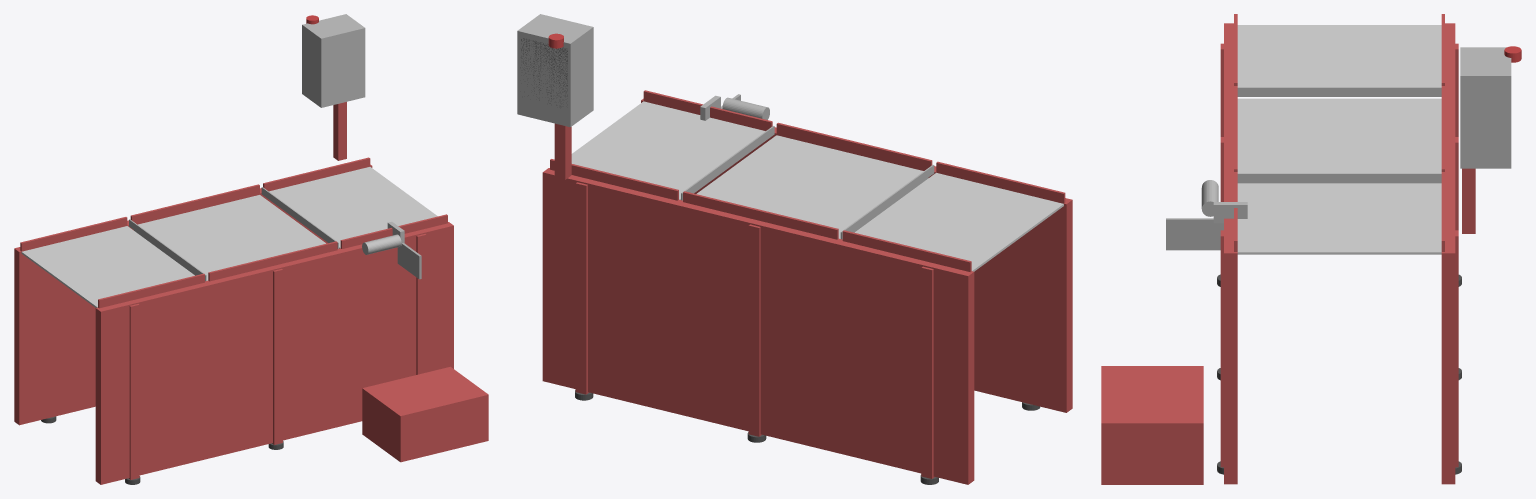
Rendered from weigher-automatic-check-600-red.glb.
3 renders of one model, left to right at view 1: azimuth 30°, elevation 25°; view 2: azimuth 150°, elevation 25°; view 3: azimuth 270°, elevation 25°, orthographic. The views are drawn at different scales.
Parts seen in each view (by area): view 1: left_frame, right_frame, reject_bin, weighing_belt, infeed_belt, reject_belt, control_box, leg_0, leg_2, right_guard_-300.0, leg_4, left_guard_-300.0 (+9 smaller); view 2: right_frame, left_frame, weighing_belt, infeed_belt, reject_belt, control_box, leg_5, leg_1, leg_3, left_guard_-300.0, right_guard_-300.0, left_guard_-800.0 (+8 smaller); view 3: weighing_belt, reject_belt, infeed_belt, reject_bin, control_box, right_frame, left_frame, divider_300.0, divider_-300.0, bin_opening, leg_5, leg_4 (+3 smaller).
Part boxes in pixels (bbox=[...]): left_frame: bbox=[95, 222, 453, 484]; right_frame: bbox=[14, 164, 372, 425]; reject_bin: bbox=[362, 366, 488, 462]; weighing_belt: bbox=[138, 195, 325, 280]; infeed_belt: bbox=[21, 226, 194, 307]; reject_belt: bbox=[269, 167, 437, 248]; control_box: bbox=[302, 14, 365, 107]; leg_0: bbox=[129, 304, 139, 479]; leg_2: bbox=[272, 269, 282, 444]; right_guard_-300.0: bbox=[130, 184, 259, 224]; leg_4: bbox=[416, 234, 426, 374]; left_guard_-300.0: bbox=[208, 241, 337, 281]; right_frame: bbox=[542, 168, 974, 484]; left_frame: bbox=[641, 98, 1072, 412]; weighing_belt: bbox=[696, 135, 923, 238]; infeed_belt: bbox=[855, 172, 1063, 271]; reject_belt: bbox=[571, 101, 765, 199]; control_box: bbox=[517, 14, 593, 127]; leg_5: bbox=[575, 182, 588, 394]; leg_1: bbox=[921, 266, 934, 478]; leg_3: bbox=[748, 224, 761, 436]; left_guard_-300.0: bbox=[776, 122, 932, 169]; right_guard_-300.0: bbox=[683, 191, 838, 239]; left_guard_-800.0: bbox=[936, 161, 1065, 203]; weighing_belt: bbox=[1237, 98, 1441, 173]; reject_belt: bbox=[1237, 183, 1441, 254]; infeed_belt: bbox=[1237, 25, 1441, 86]; reject_bin: bbox=[1101, 366, 1203, 484]; control_box: bbox=[1460, 47, 1511, 168]; right_frame: bbox=[1441, 23, 1455, 484]; left_frame: bbox=[1224, 23, 1237, 484]; divider_300.0: bbox=[1237, 173, 1441, 183]; divider_-300.0: bbox=[1237, 87, 1441, 96]; bin_opening: bbox=[1166, 218, 1223, 250]; leg_5: bbox=[1455, 230, 1458, 467]; leg_4: bbox=[1220, 230, 1223, 467].
Bounding box in the file's own units: 1600 × 1365 × 1235.
